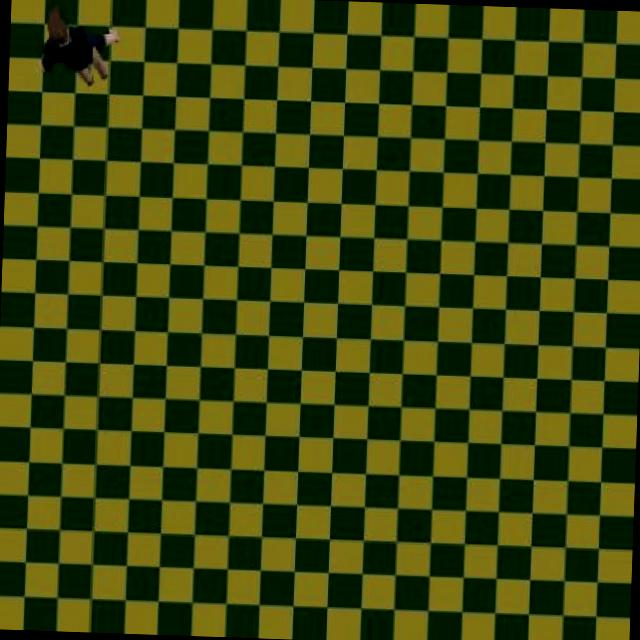Person: (35, 6, 122, 90)
